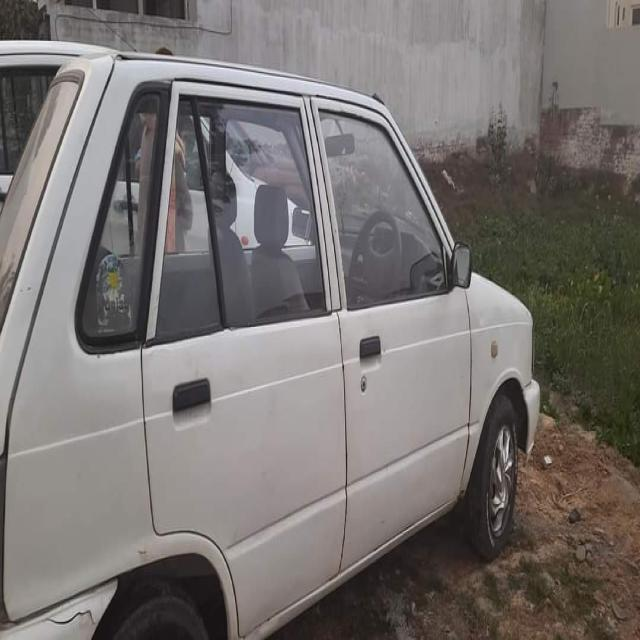white: (4, 44, 579, 640)
